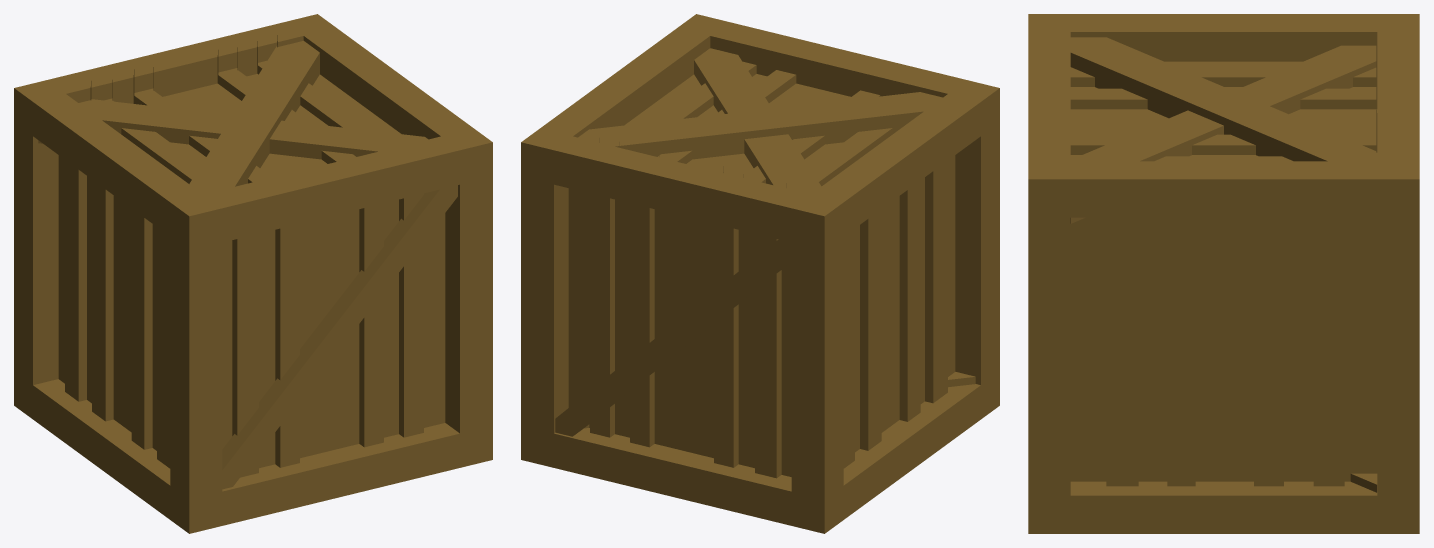
The model's file is Treibholz 1.1.fbx.
3 renders of one model, left to right at view 1: azimuth 30°, elevation 25°; view 2: azimuth 150°, elevation 25°; view 3: azimuth 270°, elevation 25°, orthographic. The views are drawn at different scales.
Visible parts, largest first — view 1: Treibholz Box; view 2: Treibholz Box; view 3: Treibholz Box.
Boxes of the visible parts, x1=… form: Treibholz Box: x1=14, y1=14, x2=492, y2=533; Treibholz Box: x1=521, y1=14, x2=999, y2=533; Treibholz Box: x1=1028, y1=14, x2=1419, y2=533.
Size of the model in its own units: 739 by 760 by 739.
